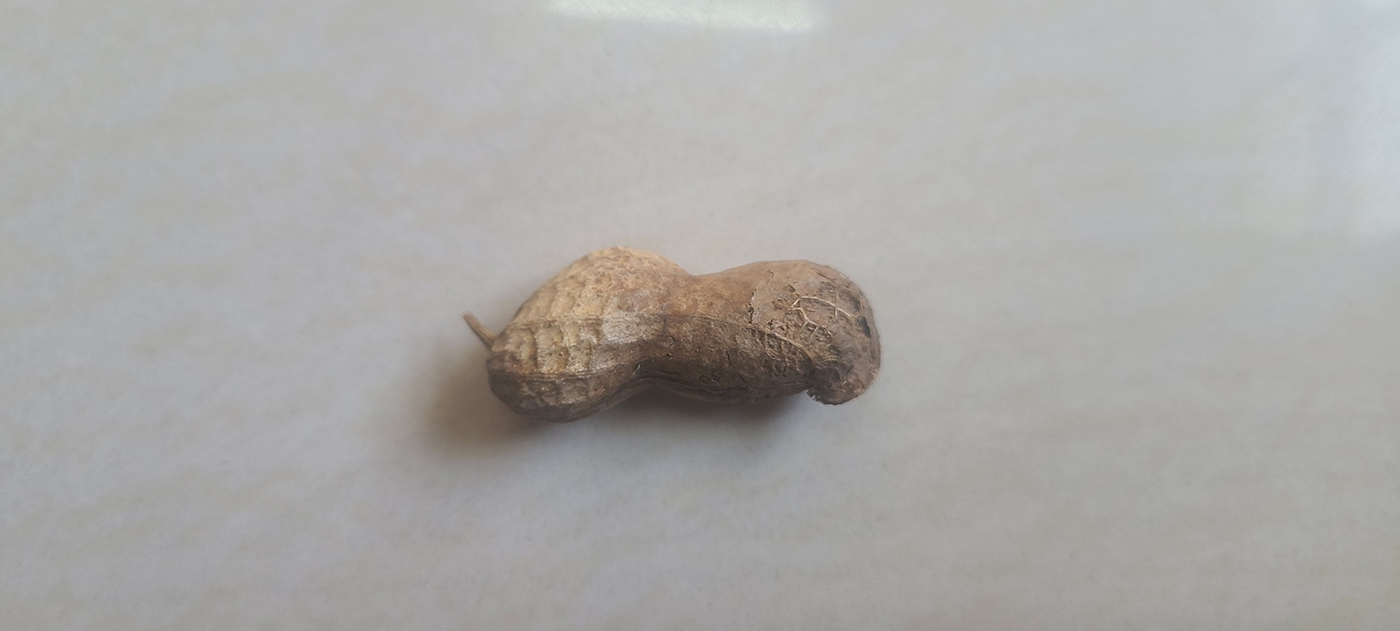l: (479, 243, 884, 419)
